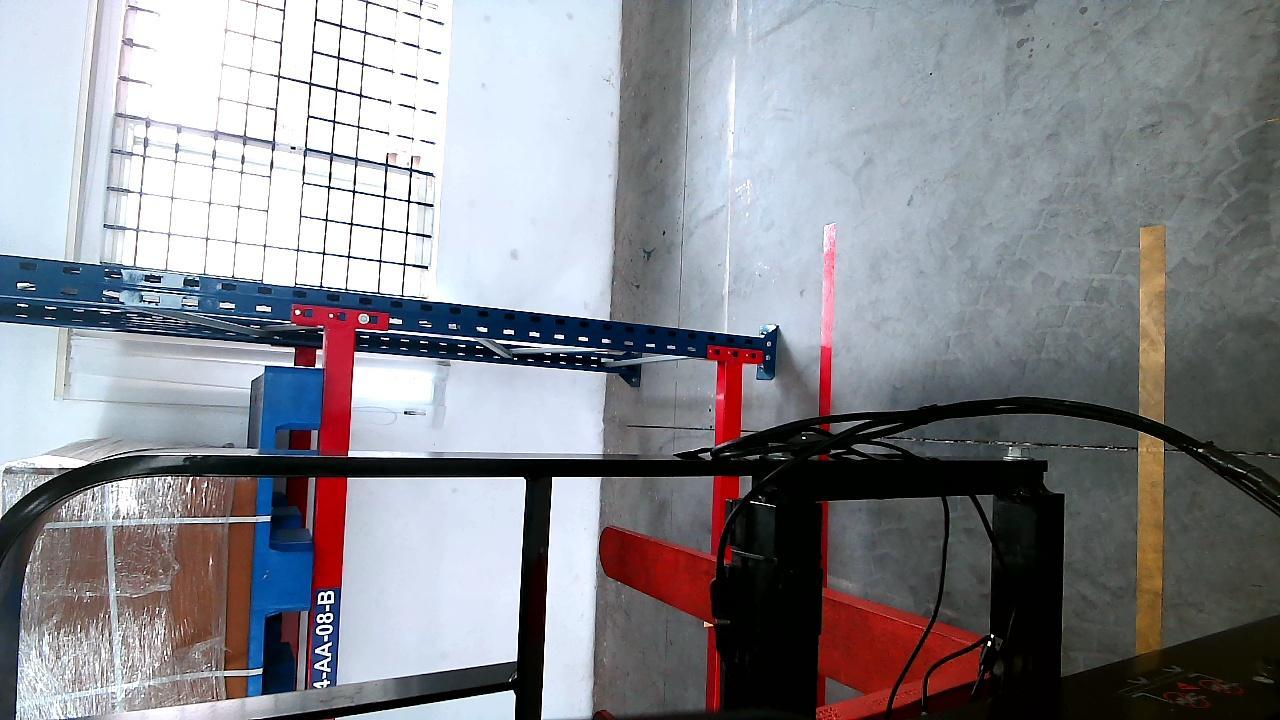red_line: (818, 222, 836, 430)
yellow_line: (1137, 212, 1164, 665)
